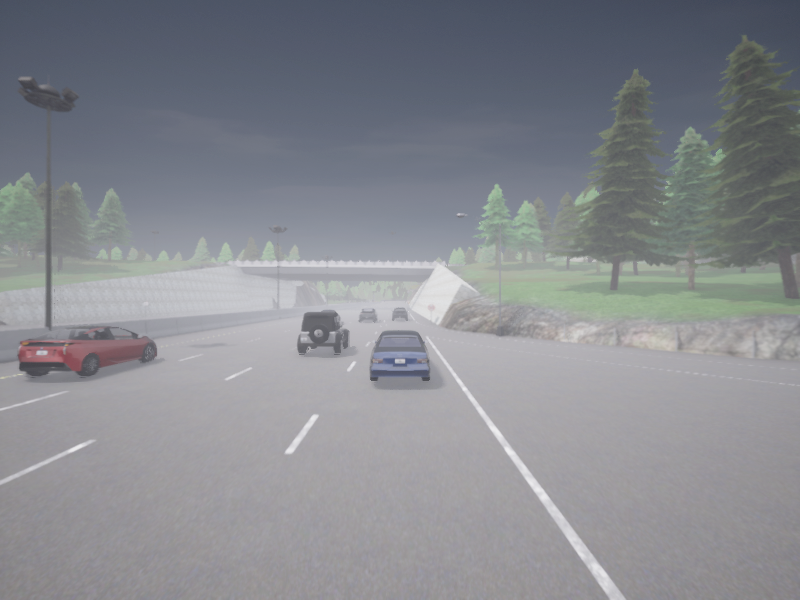vehicle: (17, 326, 156, 376), (369, 330, 430, 379), (297, 312, 348, 353), (359, 308, 377, 321), (321, 310, 340, 320), (392, 307, 407, 319)
